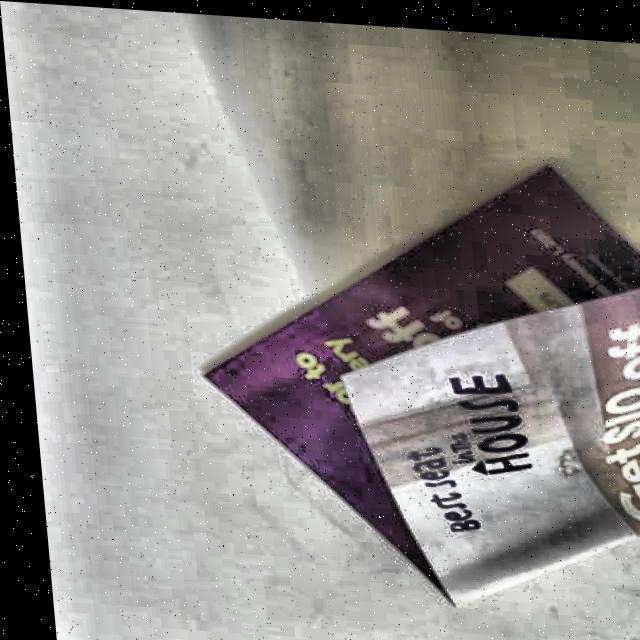paper: (181, 139, 640, 621)
